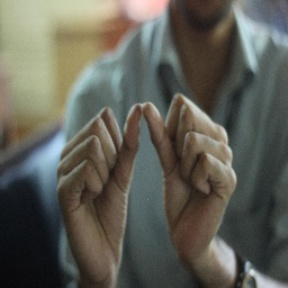A: (73, 91, 217, 229)
